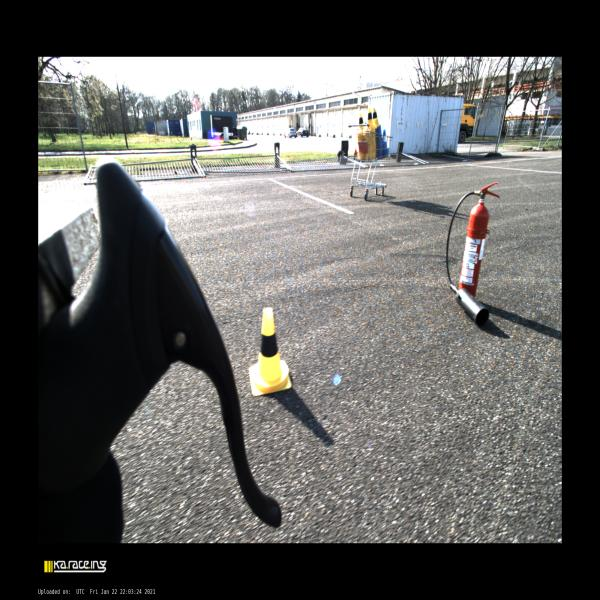blue_cone: (382, 130, 388, 148)
yellow_cone: (249, 307, 292, 396), (373, 107, 380, 126), (368, 108, 372, 124), (359, 113, 363, 125)
